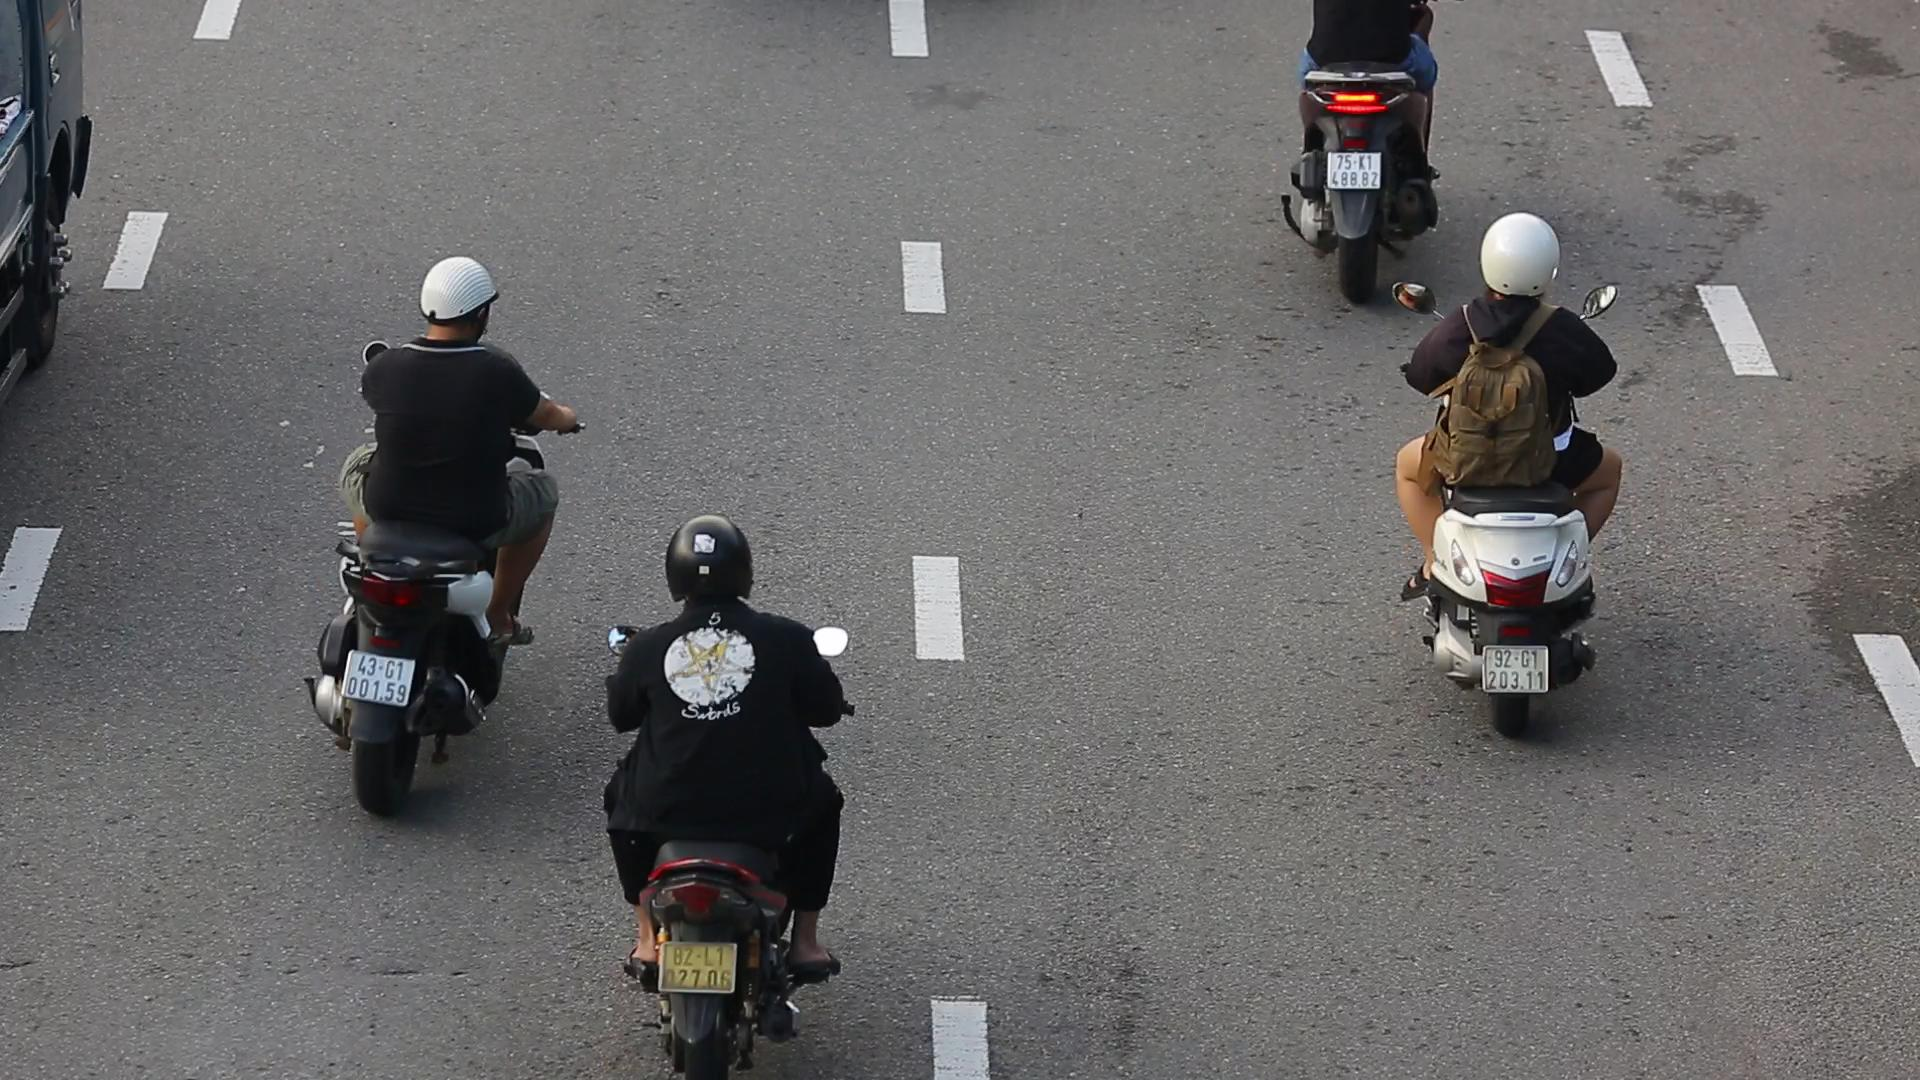motobike: (294, 255, 583, 831), (583, 506, 853, 1080), (1374, 212, 1633, 737)
